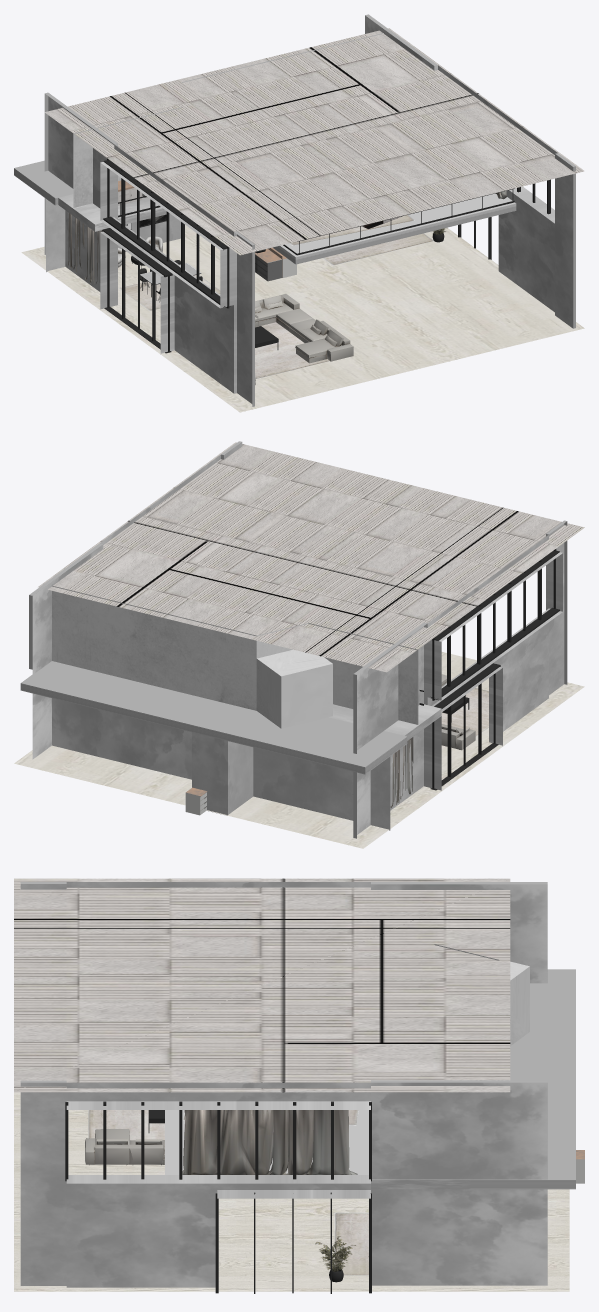
The model's file is interior.glb.
The picture shows the model from 3 angles, top to bottom: view 1: azimuth 30°, elevation 25°; view 2: azimuth 150°, elevation 25°; view 3: azimuth 270°, elevation 25°; orthographic projection. The views are drawn at different scales.
Visible parts, largest first — view 1: Plane.012, Plane, Plane.003, node_0.010_Material.002_0, Cube, node_0_Material.005_0, Plane.001, Plane.014, Plane.005, Plane.002, node_0.002_Material.013_0, Plane.011 (+9 smaller); view 2: Plane.012, Plane.002, Plane.003, Plane.001, Cube, Plane, node_0.010_Material.002_0, Plane.005, Plane.004, Plane.014, Plane.006, node_0.002_Material.013_0 (+4 smaller); view 3: Plane.012, node_0.010_Material.002_0, Plane, Cube, node_0.014_Material.013_0, Plane.003, node_0.010_Material.004_0, node_0_Material.005_0, Plane.011, Plane.014, Plane.002, Cube.025.
Part boxes in pixels (x1,y1,x2,y2): Plane.012: (45, 28, 584, 255); Plane: (21, 225, 584, 412); Plane.003: (44, 92, 254, 406); node_0.010_Material.002_0: (365, 14, 575, 328); Cube: (14, 160, 516, 264); node_0_Material.005_0: (255, 294, 353, 363); Plane.001: (46, 199, 180, 272); Plane.014: (255, 322, 329, 378); Plane.005: (107, 158, 229, 308); Plane.002: (73, 31, 391, 207); node_0.002_Material.013_0: (68, 213, 102, 284); Plane.011: (323, 233, 433, 265); Plane.012: (38, 442, 584, 672); Plane.002: (52, 585, 418, 728); Plane.003: (353, 520, 567, 838); Plane.001: (52, 698, 390, 830); Cube: (20, 661, 441, 774); Plane: (14, 652, 584, 848); node_0.010_Material.002_0: (29, 441, 242, 759); Plane.005: (432, 549, 556, 700); Plane.004: (432, 673, 495, 788); Plane.014: (441, 688, 488, 736); Plane.006: (431, 607, 559, 700); node_0.002_Material.013_0: (390, 737, 413, 807); Plane.012: (14, 878, 510, 1092); node_0.010_Material.002_0: (20, 1080, 547, 1287); Plane: (14, 1092, 569, 1291); Cube: (165, 969, 575, 1189); node_0.014_Material.013_0: (182, 1110, 357, 1174); Plane.003: (20, 882, 547, 983); node_0.010_Material.004_0: (65, 1101, 371, 1293); node_0_Material.005_0: (85, 1129, 164, 1165); Plane.011: (334, 1212, 368, 1275); Plane.014: (88, 1110, 164, 1140); Plane.002: (434, 944, 529, 1045); Cube.025: (315, 1236, 355, 1282).
Size of what is drawn, in the model's own units: 11.54 by 5.05 by 12.58.
21 materials, 20 textured.
